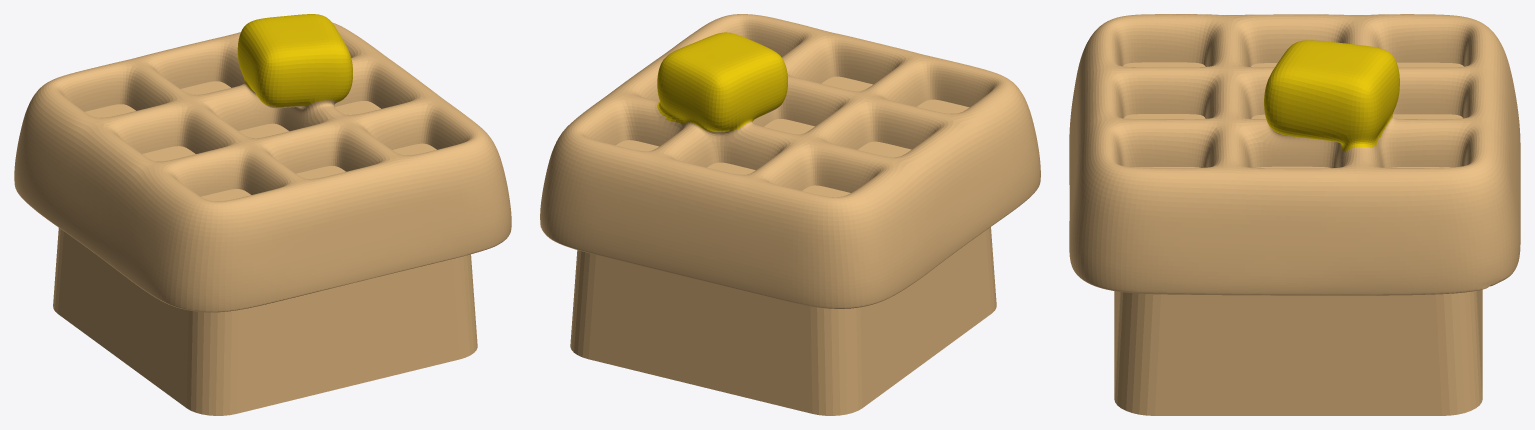
The model's file is keycap_Waffle.glb.
The picture shows the model from 3 angles, left to right: view 1: azimuth 30°, elevation 25°; view 2: azimuth 150°, elevation 25°; view 3: azimuth 270°, elevation 25°; orthographic projection. The views are drawn at different scales.
Visible parts, largest first — view 1: Retopo_obj_1_upperv2; view 2: Retopo_obj_1_upperv2; view 3: Retopo_obj_1_upperv2.
Part boxes in pixels (<box>): Retopo_obj_1_upperv2: <box>14,14,511,415</box>; Retopo_obj_1_upperv2: <box>540,14,1040,415</box>; Retopo_obj_1_upperv2: <box>1069,14,1520,415</box>.
Bounding box in the file's own units: 19.88 × 14.84 × 19.88.
